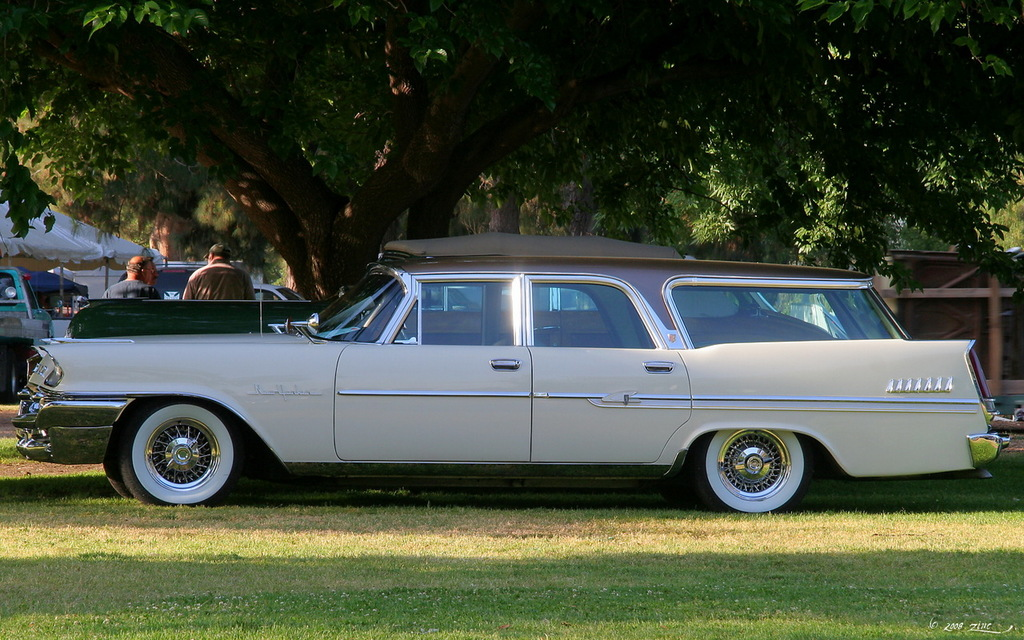Tree: (7, 33, 440, 259)
